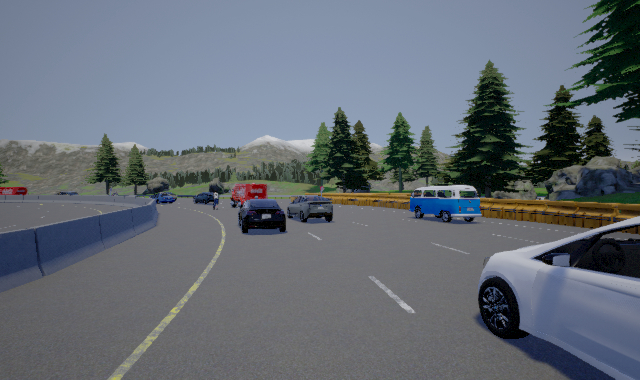vehicle: (478, 216, 640, 380), (409, 185, 482, 223), (237, 197, 286, 235), (287, 195, 333, 223), (229, 182, 270, 210), (152, 190, 179, 204), (193, 190, 217, 203)
